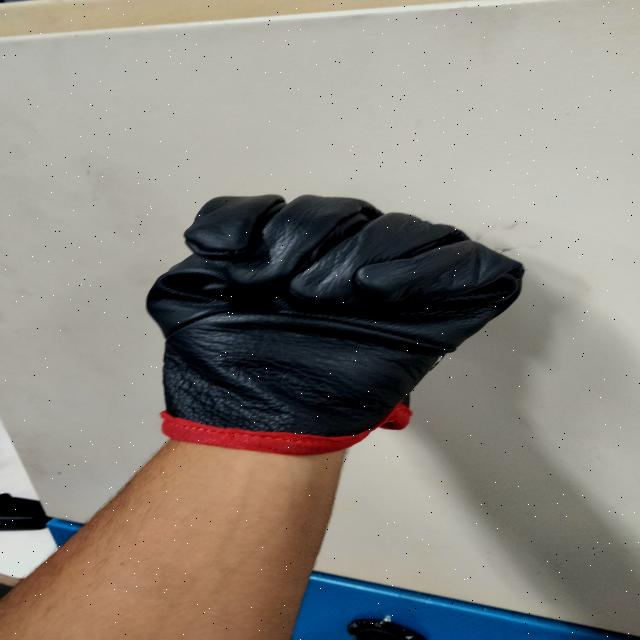Gloves: (136, 185, 514, 456)
